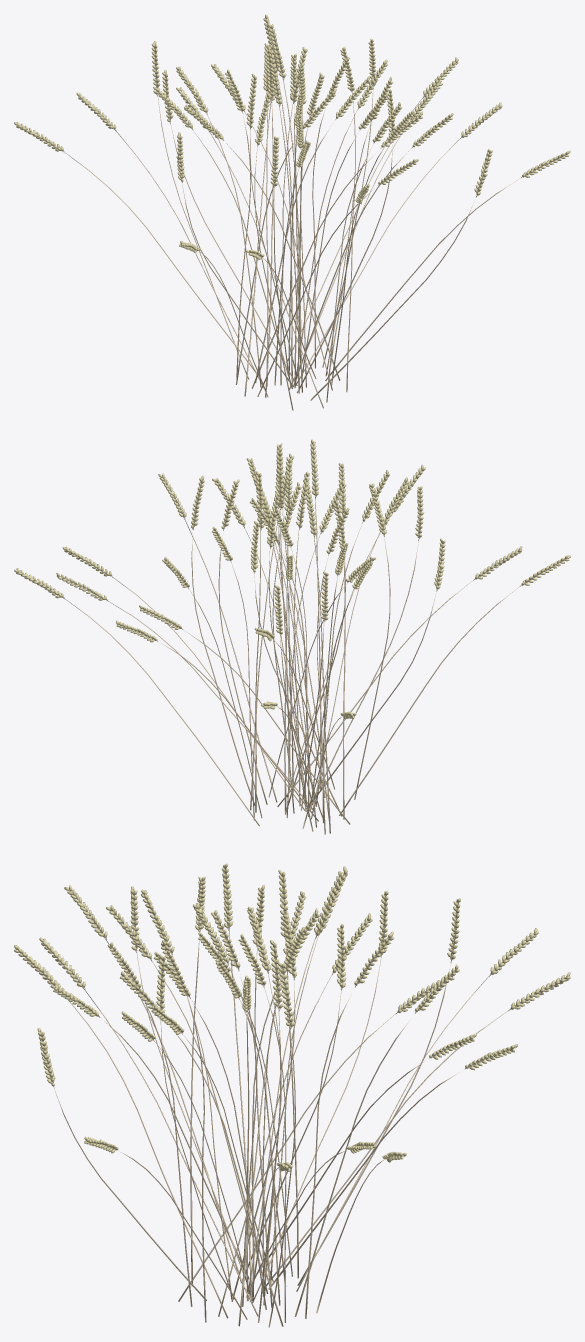
Rendered from wheat.fbx.
3 renders of one model, top to bottom at view 1: azimuth 30°, elevation 25°; view 2: azimuth 150°, elevation 25°; view 3: azimuth 270°, elevation 25°, orthographic. The views are drawn at different scales.
Parts seen in each view (by area): view 1: lvs_38; view 2: lvs_38; view 3: lvs_38.
Boxes of the visible parts, <box> form: lvs_38: <box>14,14,570,410</box>; lvs_38: <box>14,439,570,834</box>; lvs_38: <box>14,863,570,1327</box>.
Bounding box in the file's own units: 0.9962 × 0.7431 × 0.9375.
